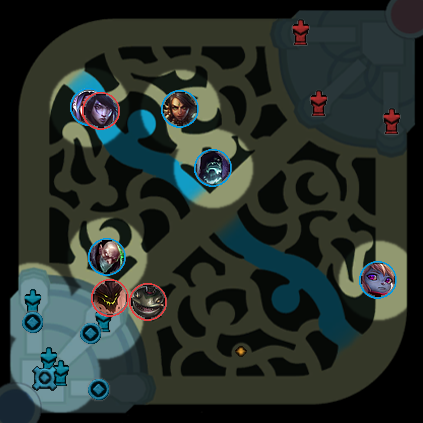Aphelios: (82, 92, 120, 130)
Irelia: (70, 88, 108, 126)
Malphite: (91, 279, 129, 317)
Nidalee: (161, 90, 199, 128)
Poppy: (359, 261, 397, 299)
Singed: (88, 238, 126, 276)
TahmKench: (129, 283, 167, 321)
Yorick: (194, 149, 232, 187)
